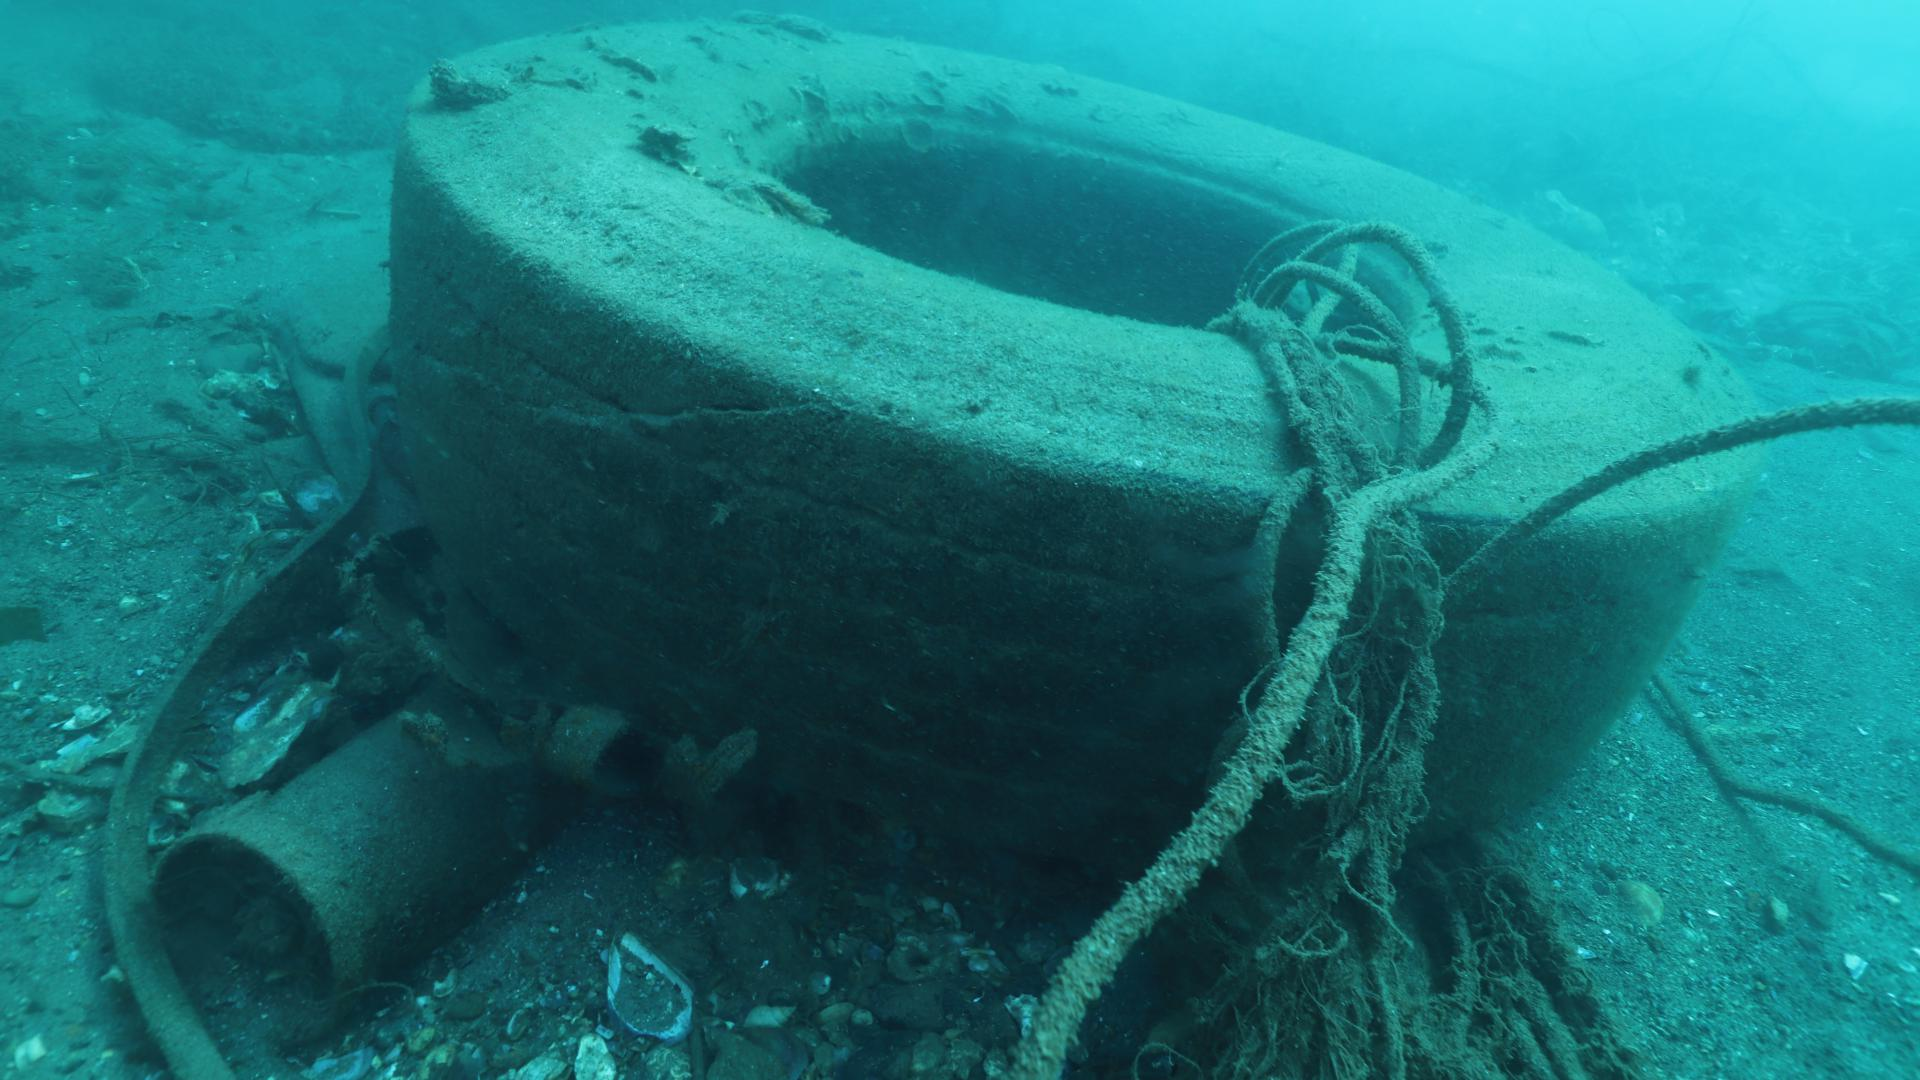bundle of ropes: (1011, 214, 1920, 1080)
tire: (384, 15, 1751, 916)
